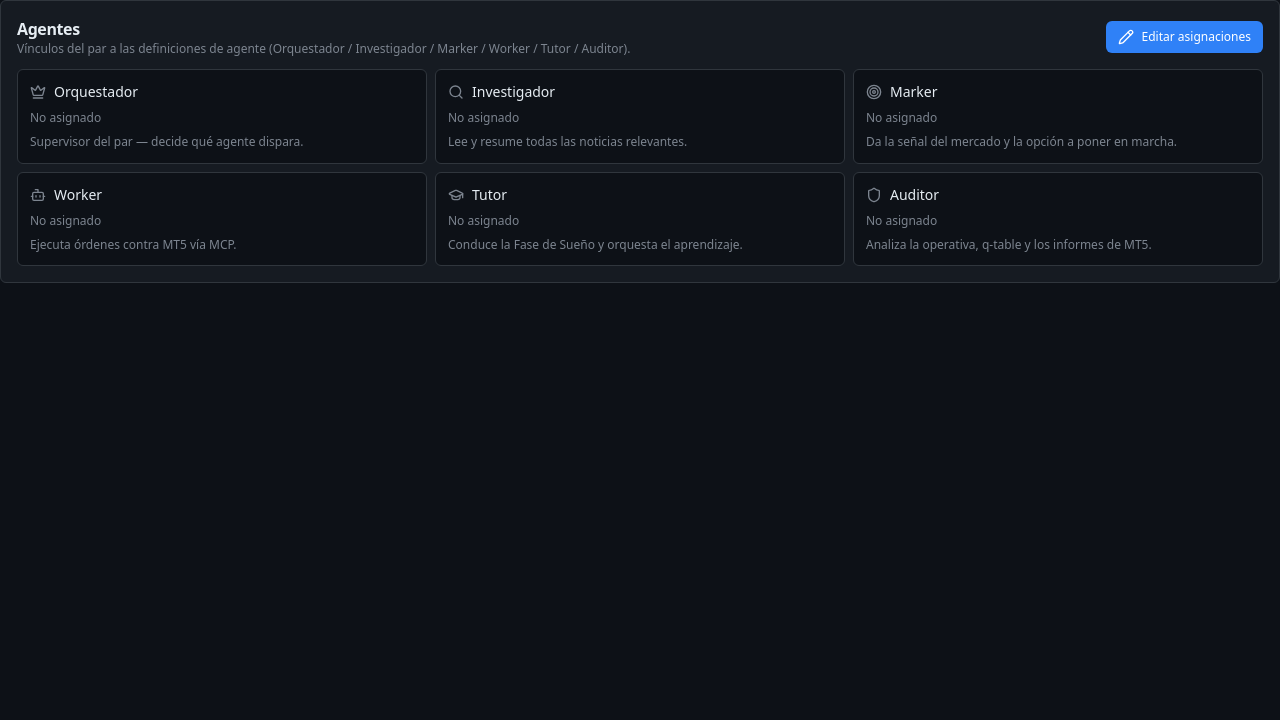
Test: PairAgentsPanel › opens the dialog with all six pickers when the edit button is clicked
The image size is (1280, 720).
Click the button with test id "open-agent-binding-dialog" at (1184, 37), box [1106,21,1263,53]
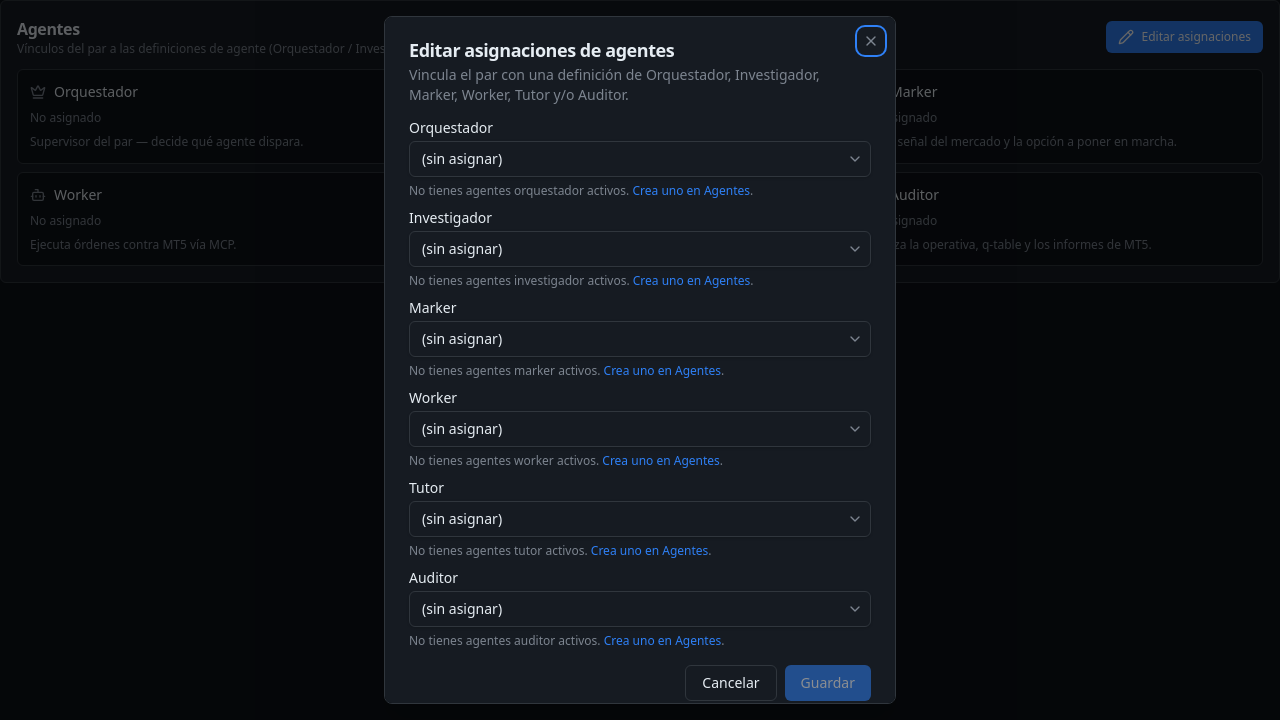
Expected: the heading "Editar asignaciones de agentes" is shown, [409,38,674,62]
Expected: the dropdown with test id "dlg-orchestrator-agent-select" is shown, [409,141,871,177]
Expected: the dropdown with test id "dlg-investigator-agent-select" is shown, [409,231,871,267]
